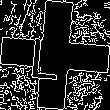L_N: (37, 28, 73, 82)
